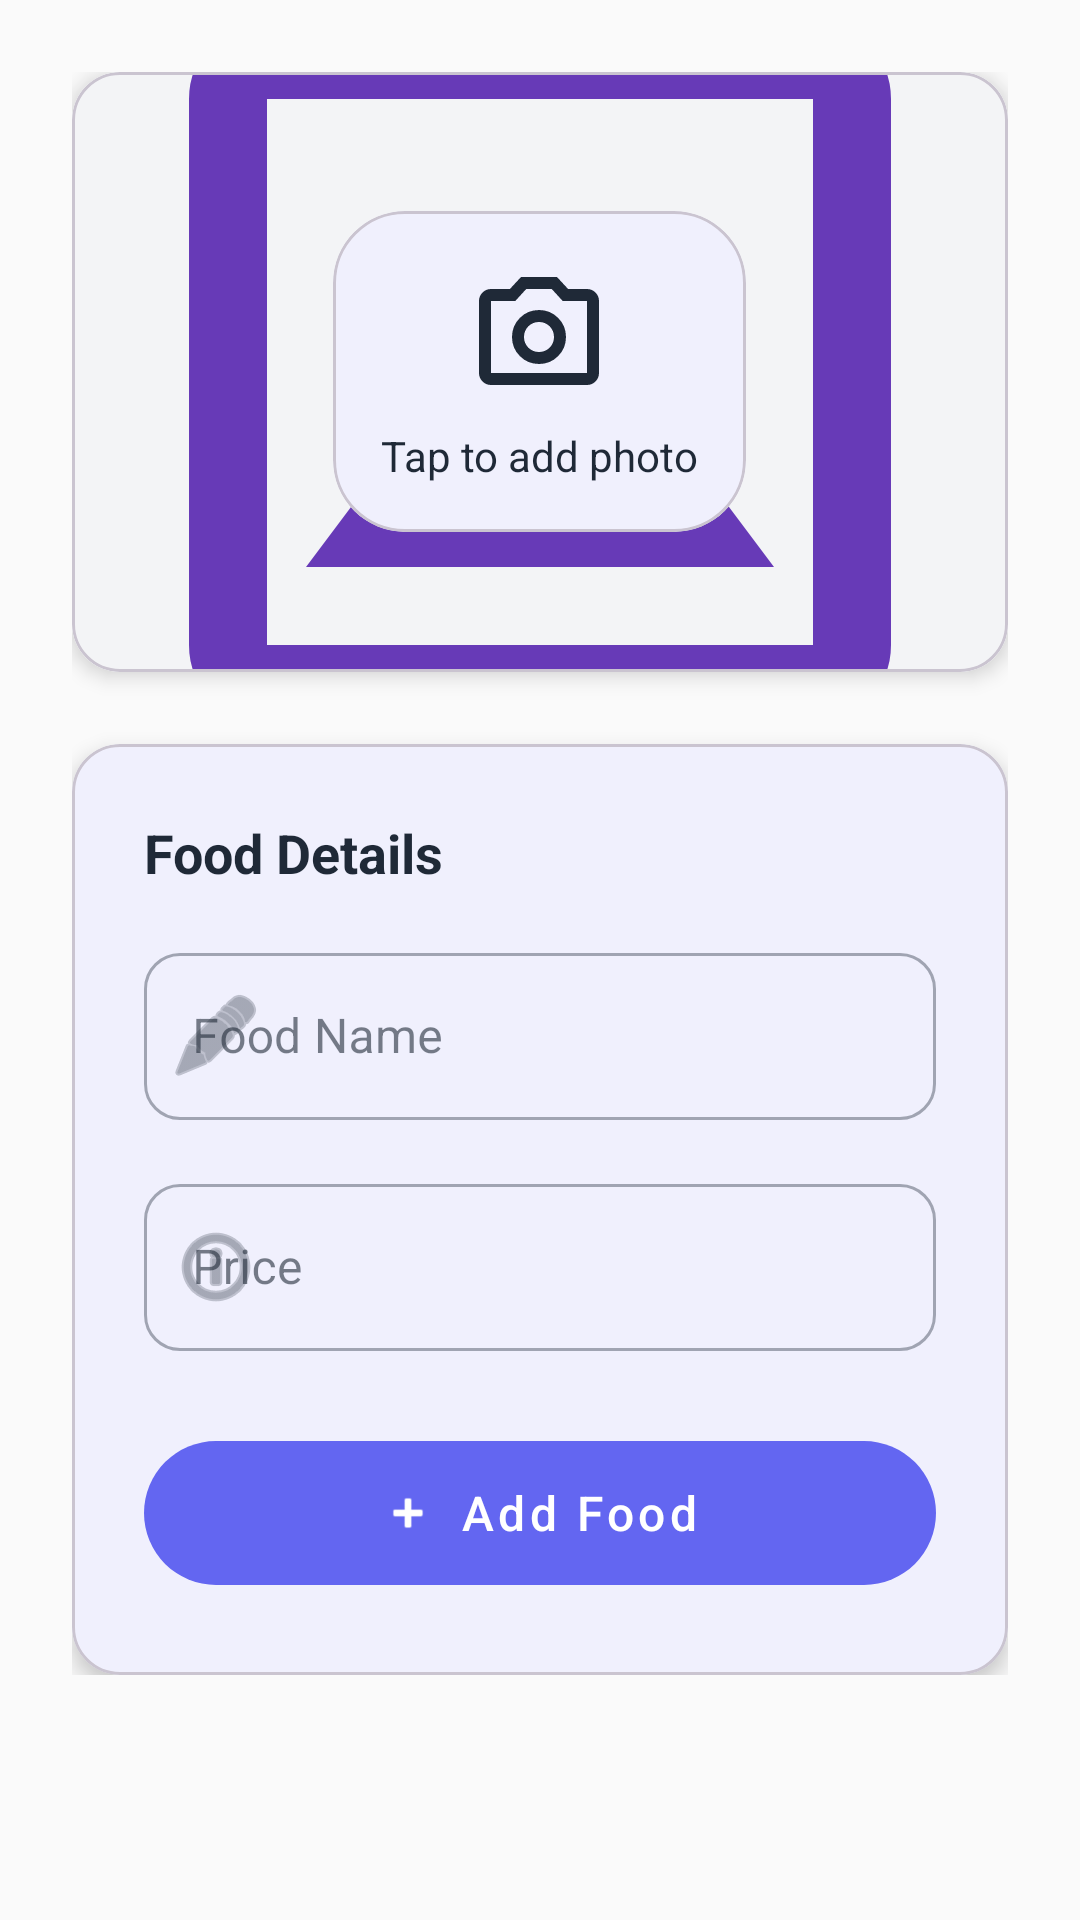

Icon bounding boxes for this 1080px x 1920px phone screenshot, format (x1, y1, x2, y2):
photo camera: (479, 277, 599, 385)
